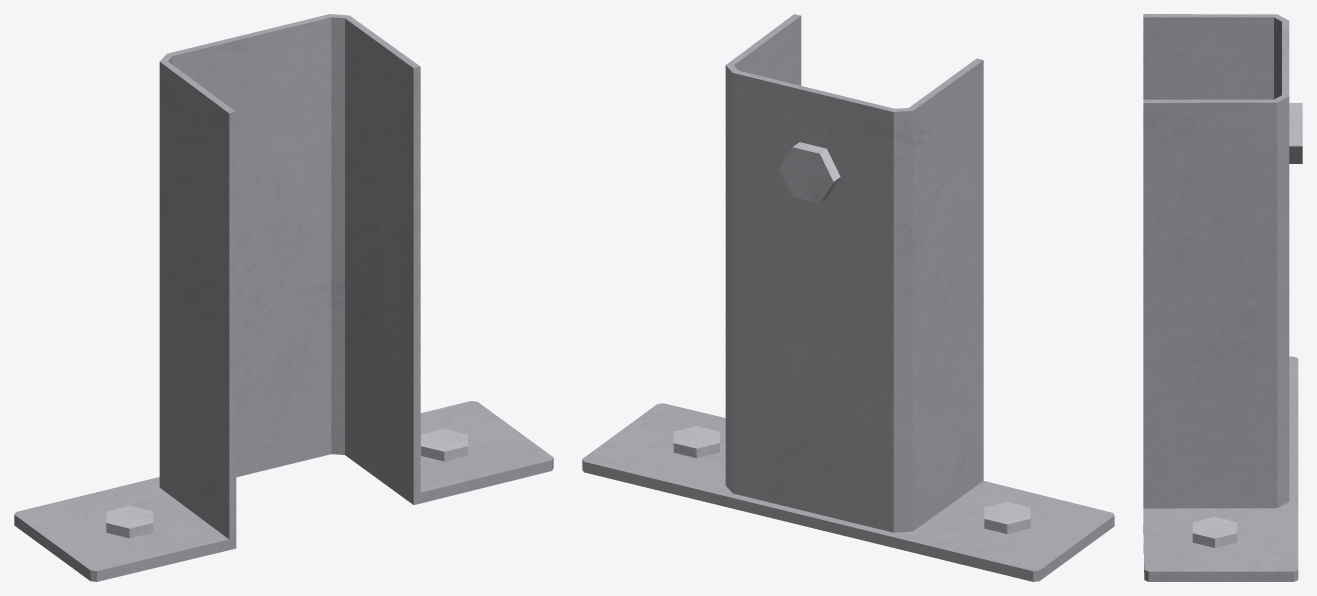
Rendered from LegsBottom.glb.
The picture shows the model from 3 angles, left to right: view 1: azimuth 30°, elevation 25°; view 2: azimuth 150°, elevation 25°; view 3: azimuth 270°, elevation 25°; orthographic projection. The views are drawn at different scales.
Parts seen in each view (by area): view 1: LegsBottom; view 2: LegsBottom; view 3: LegsBottom.
Part boxes in pixels (box(x1,y1,x2,y2)): LegsBottom: box(14, 14, 553, 581); LegsBottom: box(582, 14, 1114, 581); LegsBottom: box(1143, 14, 1302, 581).
Size of the model in its own units: 0.5302 by 0.4779 by 0.1662.
2 materials, 2 textured.
